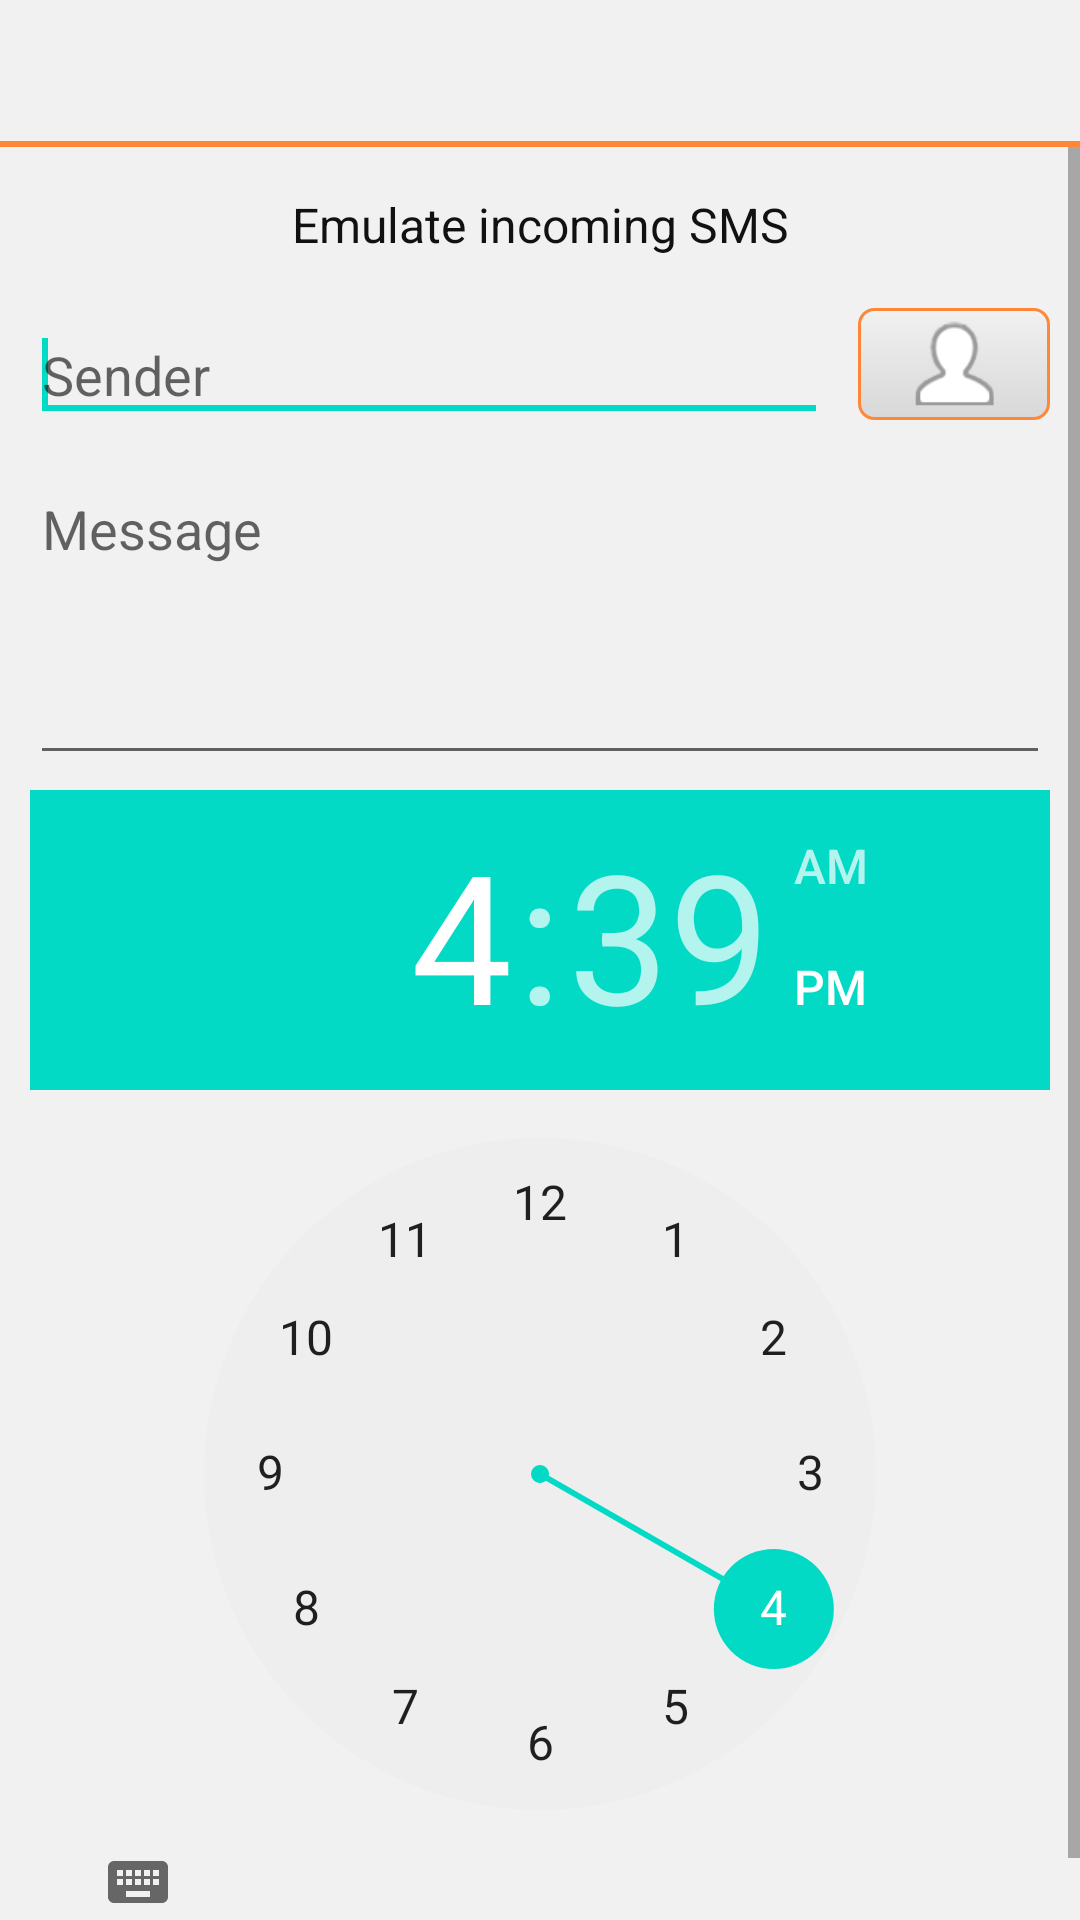

Icons on this 1080w x 1920h Android screen, each with its box as box=[x1, y1, x2, y2]:
contact: box=[858, 308, 1050, 420]
